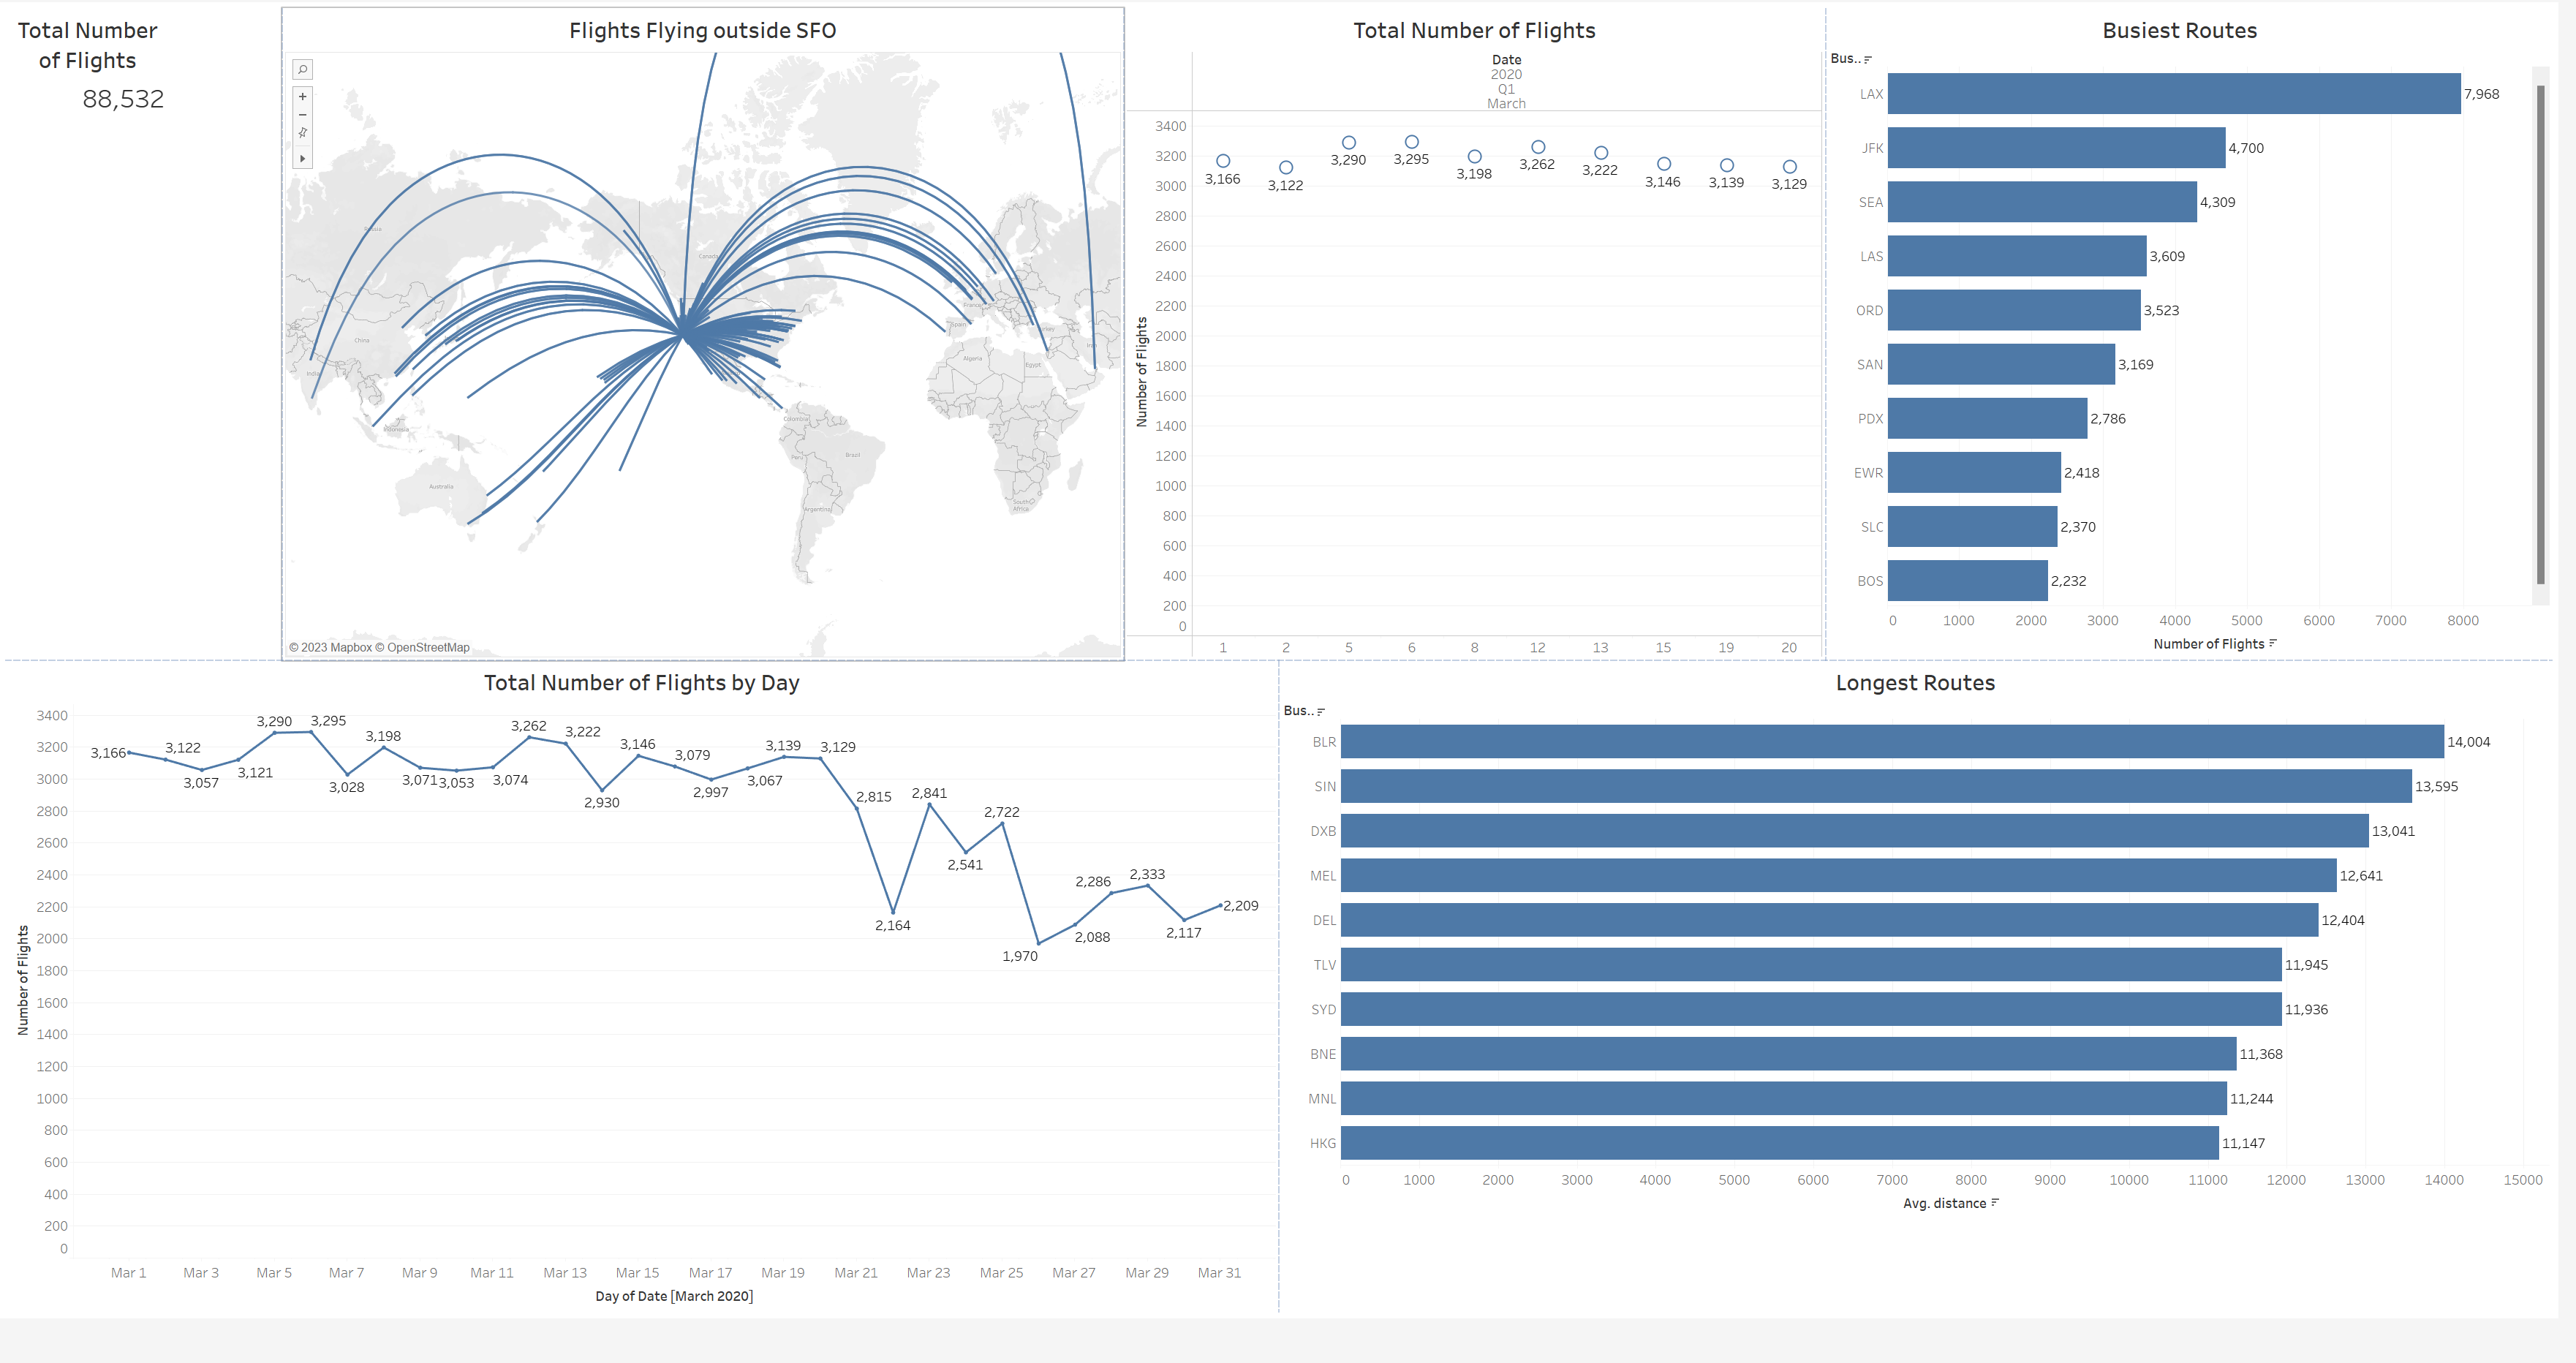

What the dashboard file says about the page in this screenshot:
{"tool":"tableau","page":{"name":"SFO Flight Data Dashboard","canvas":[3500,1800],"ordinal":0},"visuals":[{"type":"worksheet","title":"Total Flights","mark":"Automatic","box":[8,8,379,892]},{"type":"worksheet","title":"Flights Flying outside SFO","mark":"Automatic","box":[387,8,1151,892]},{"type":"worksheet","title":"Busiest Days","mark":"Shape","rows":["Calculation_4718928003180781569"],"cols":["Date","Date","Date","Date"],"box":[1538,8,960,892]},{"type":"worksheet","title":"Busiest Routes","mark":"Automatic","rows":["Calculation_4718928003212427266"],"cols":["Calculation_4718928003180781569"],"box":[2498,8,994,892]},{"type":"worksheet","title":"Total Number of Flights by Day","mark":"Automatic","rows":["Calculation_4718928003180781569"],"cols":["Date"],"box":[8,900,1741.8,892]},{"type":"worksheet","title":"Longest Routes","mark":"Automatic","rows":["Calculation_4718928003212427266"],"cols":["Calculation_4718928003214082053"],"box":[1749.8,900,1742.2,892]}]}

Visuals, with their boxes in screenshot pixels (x1, y1, x2, y2), scaled from the page's 3500x1800 canvas onto the 2576x1363 screenshot:
"Total Flights" worksheet: rect(6, 6, 285, 681)
"Flights Flying outside SFO" worksheet: rect(285, 6, 1132, 681)
"Busiest Days" worksheet (Shape marks): rect(1132, 6, 1838, 681)
"Busiest Routes" worksheet: rect(1838, 6, 2570, 681)
"Total Number of Flights by Day" worksheet: rect(6, 681, 1288, 1357)
"Longest Routes" worksheet: rect(1288, 681, 2570, 1357)
